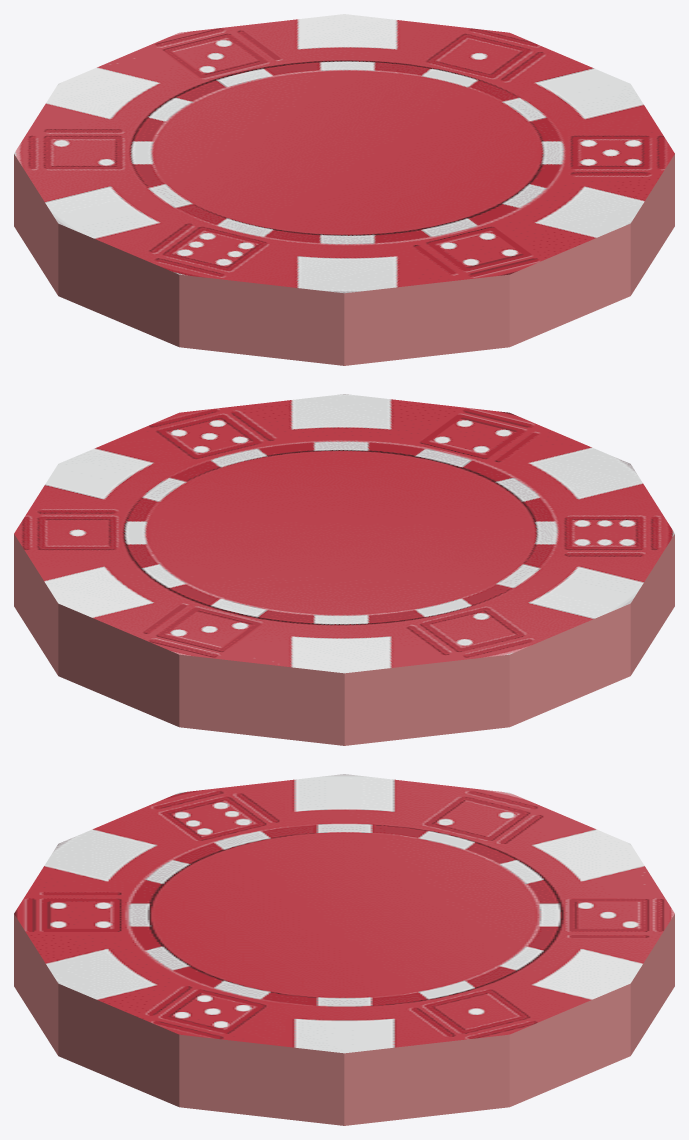
File: pokerChip1.fbx
3 renders of one model, top to bottom at view 1: azimuth 30°, elevation 25°; view 2: azimuth 150°, elevation 25°; view 3: azimuth 270°, elevation 25°, orthographic.
Visible parts, largest first — view 1: instance_0.002, instance_0.001; view 2: instance_0.002, instance_0.001; view 3: instance_0.002, instance_0.001.
Part boxes in pixels (x1,y1,x2,y2): instance_0.002: (14, 14, 674, 293); instance_0.001: (14, 154, 674, 365); instance_0.002: (14, 394, 674, 673); instance_0.001: (14, 534, 674, 745); instance_0.002: (14, 774, 674, 1053); instance_0.001: (14, 914, 674, 1125).
Bounding box in the file's own units: 392 × 47.57 × 392.
